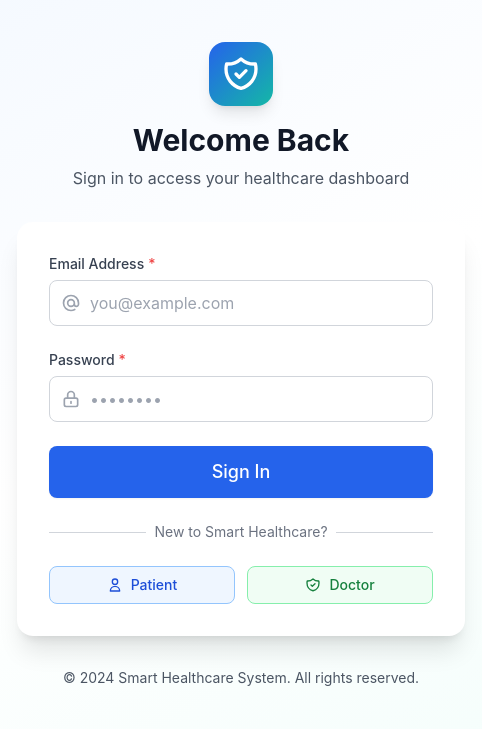
Test: Login Component › validates password length
The image size is (482, 729).
Step 1. Type "12345" into the password field labelled "Password*" → [241, 399], box [49,376,433,422]
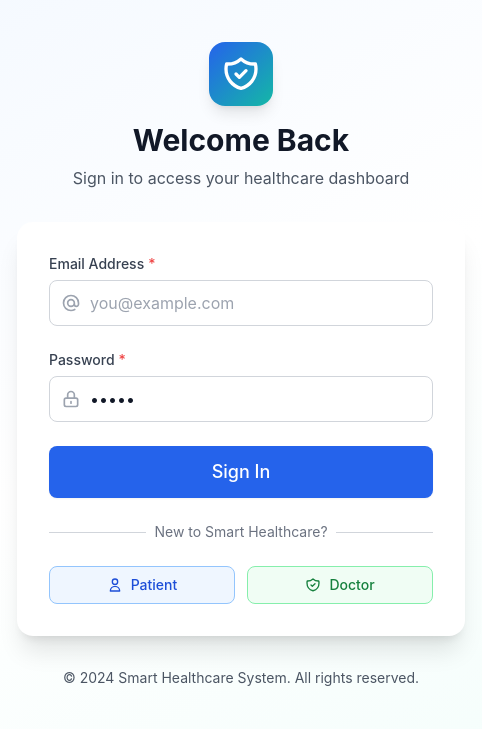
Step 2. Click the button "Sign In" → [241, 472], box [49,446,433,498]
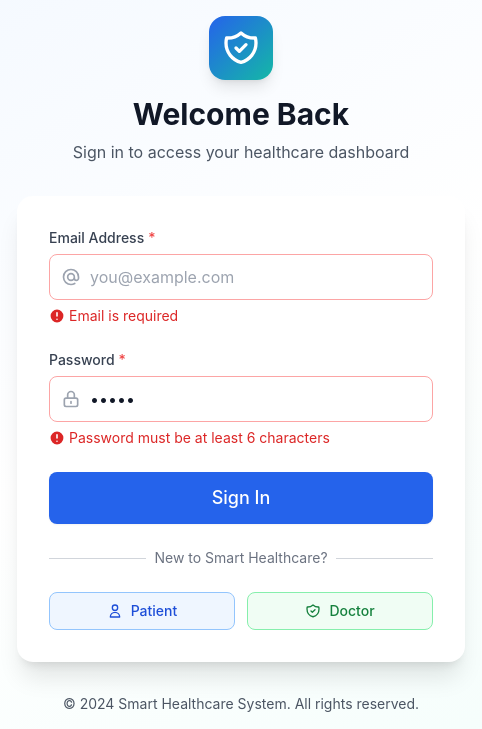
Check: the text "Password must be at least 6 characters" is shown, box [49,429,330,446]
